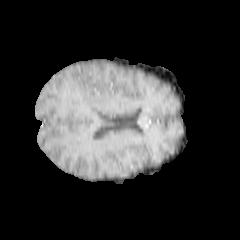glioma: (76, 82, 110, 113)
